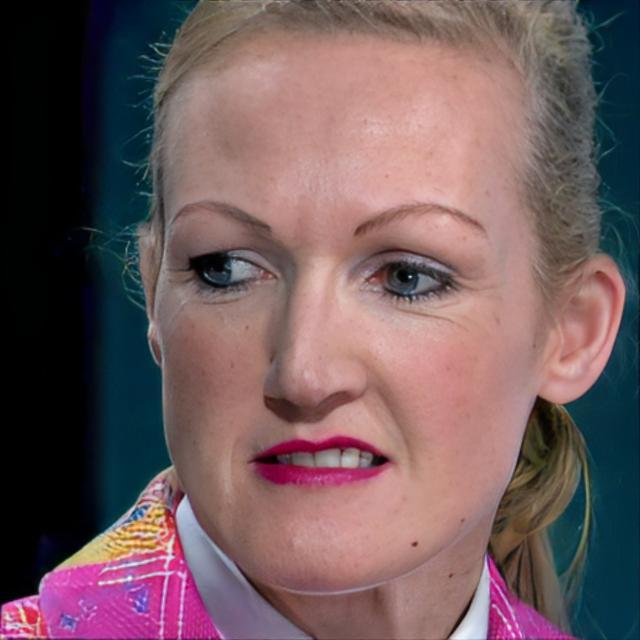disgust: (150, 35, 538, 597)
